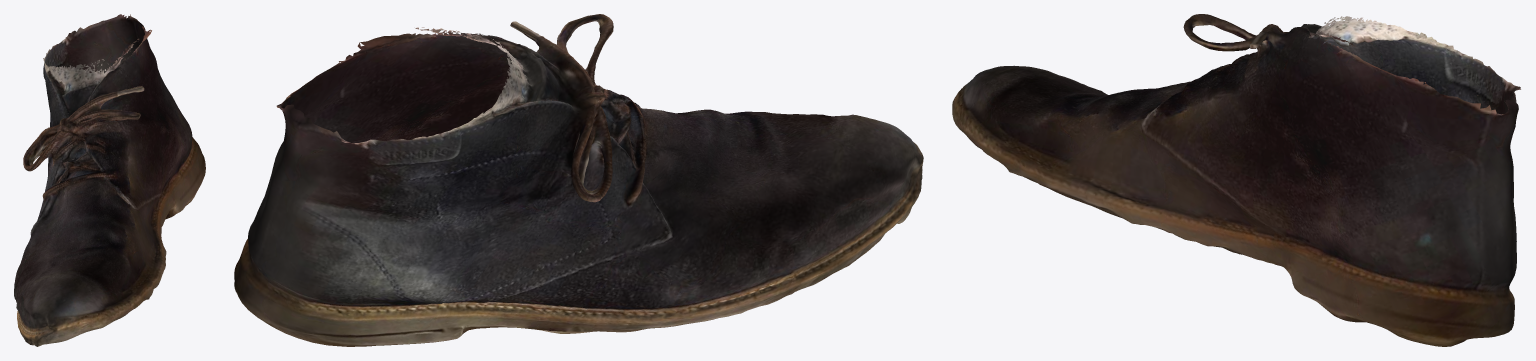
The model's file is pariwisata-SAFETY_SHOES.glb.
3 views of the same model, side by side, from view 1: azimuth 30°, elevation 25°; view 2: azimuth 150°, elevation 25°; view 3: azimuth 270°, elevation 25° (orthographic). The views are drawn at different scales.
Visible parts, largest first — view 1: Default_textured_0_0; view 2: Default_textured_0_0; view 3: Default_textured_0_0.
Part boxes in pixels (x1,y1,x2,y2): Default_textured_0_0: (14, 14, 205, 346); Default_textured_0_0: (234, 14, 923, 346); Default_textured_0_0: (952, 14, 1520, 346).
Size of the model in its own units: 0.0026 by 0.0016 by 0.00288.
1 material, 1 textured.
